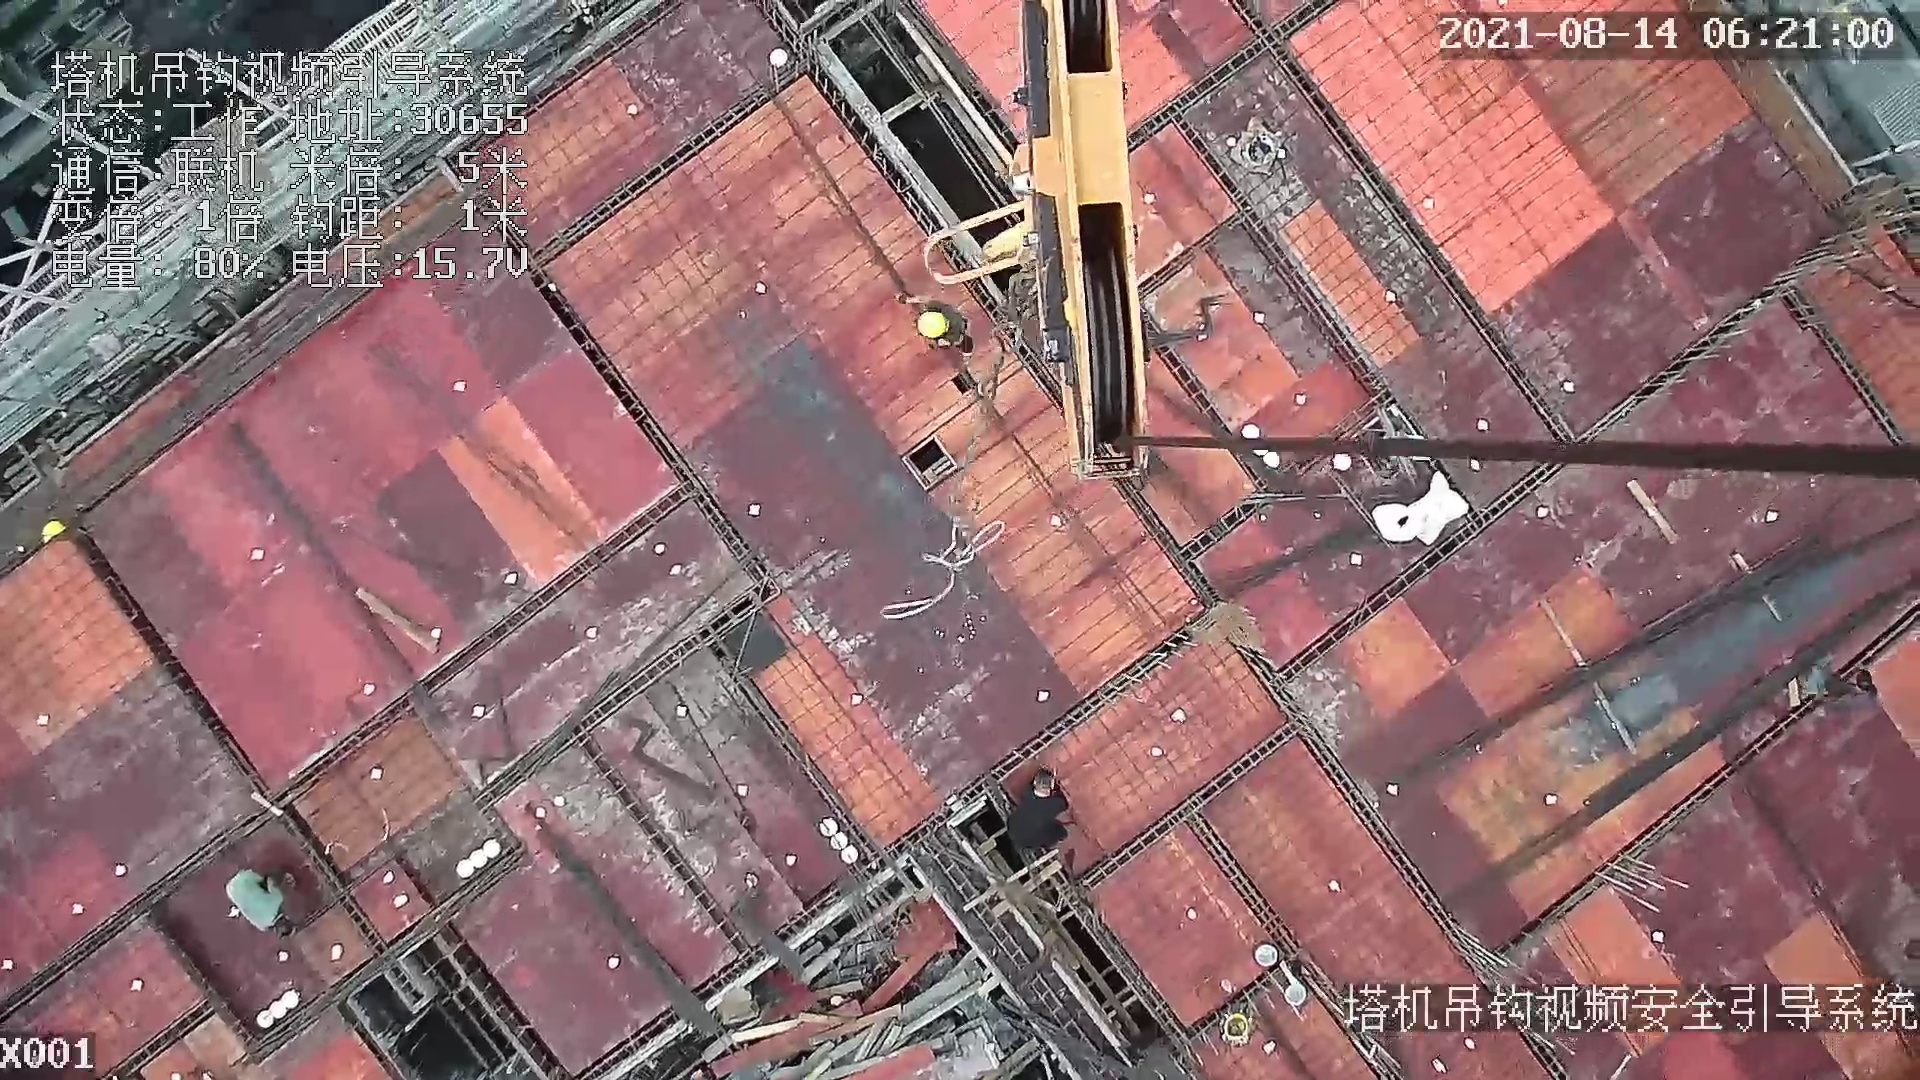helmet: (912, 308, 952, 346)
hook: (913, 1, 1159, 480)
person: (883, 274, 970, 353)
